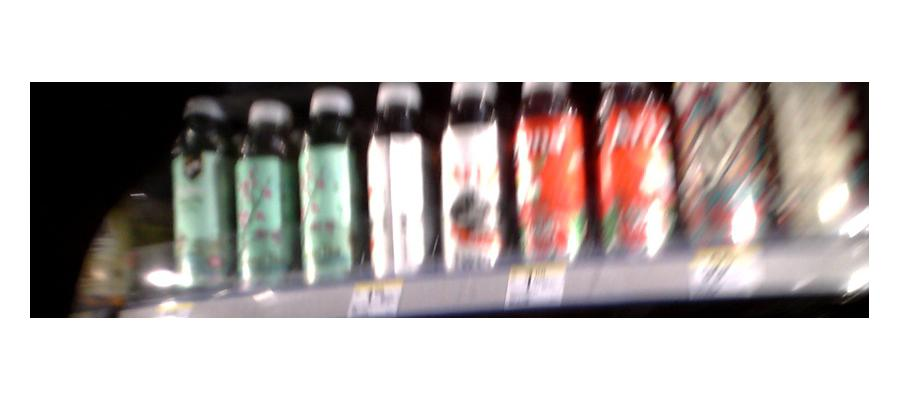bottle: (683, 80, 776, 272), (360, 86, 435, 281), (512, 79, 588, 270), (594, 81, 675, 258), (437, 81, 506, 273), (168, 98, 231, 300), (295, 93, 358, 284), (233, 104, 292, 294)
